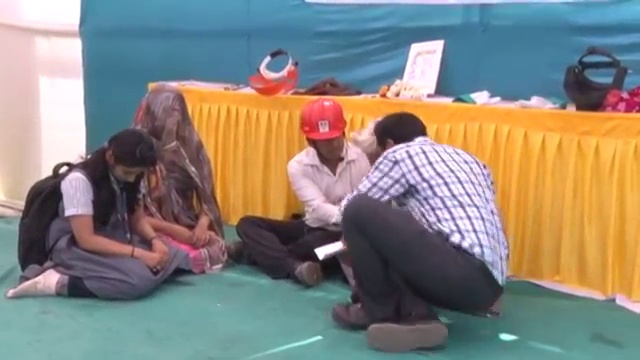helmet: (298, 97, 352, 145)
helmet_off: (94, 128, 157, 187), (359, 112, 428, 155), (141, 88, 191, 145)
helmet_on: (300, 103, 355, 169)
person: (332, 114, 509, 358), (8, 128, 187, 304), (231, 95, 369, 282), (129, 78, 223, 271)
